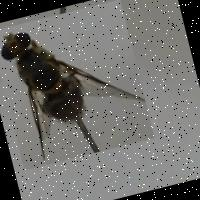Oriental-fruit-fly: (0, 0, 154, 169)
